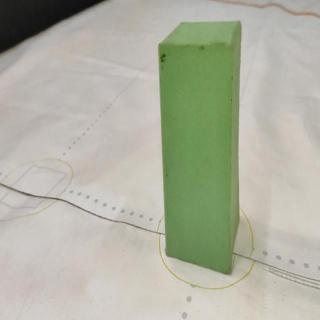greenbox: (158, 19, 242, 276)
